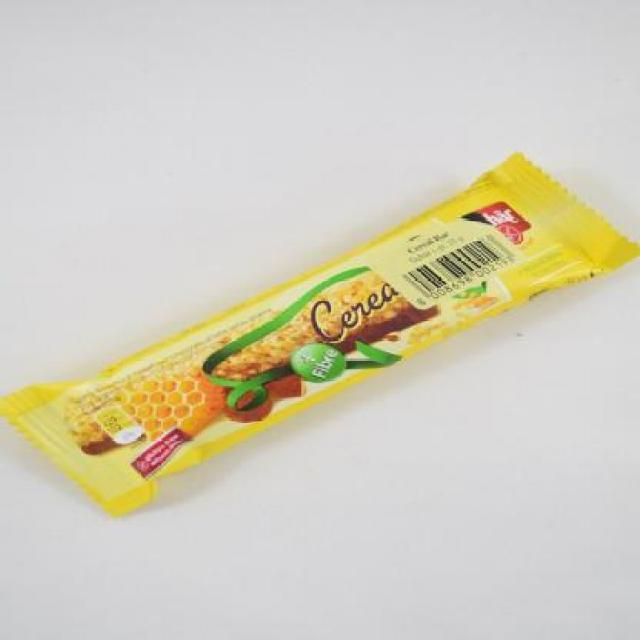Cereal bar: (9, 166, 614, 522)
